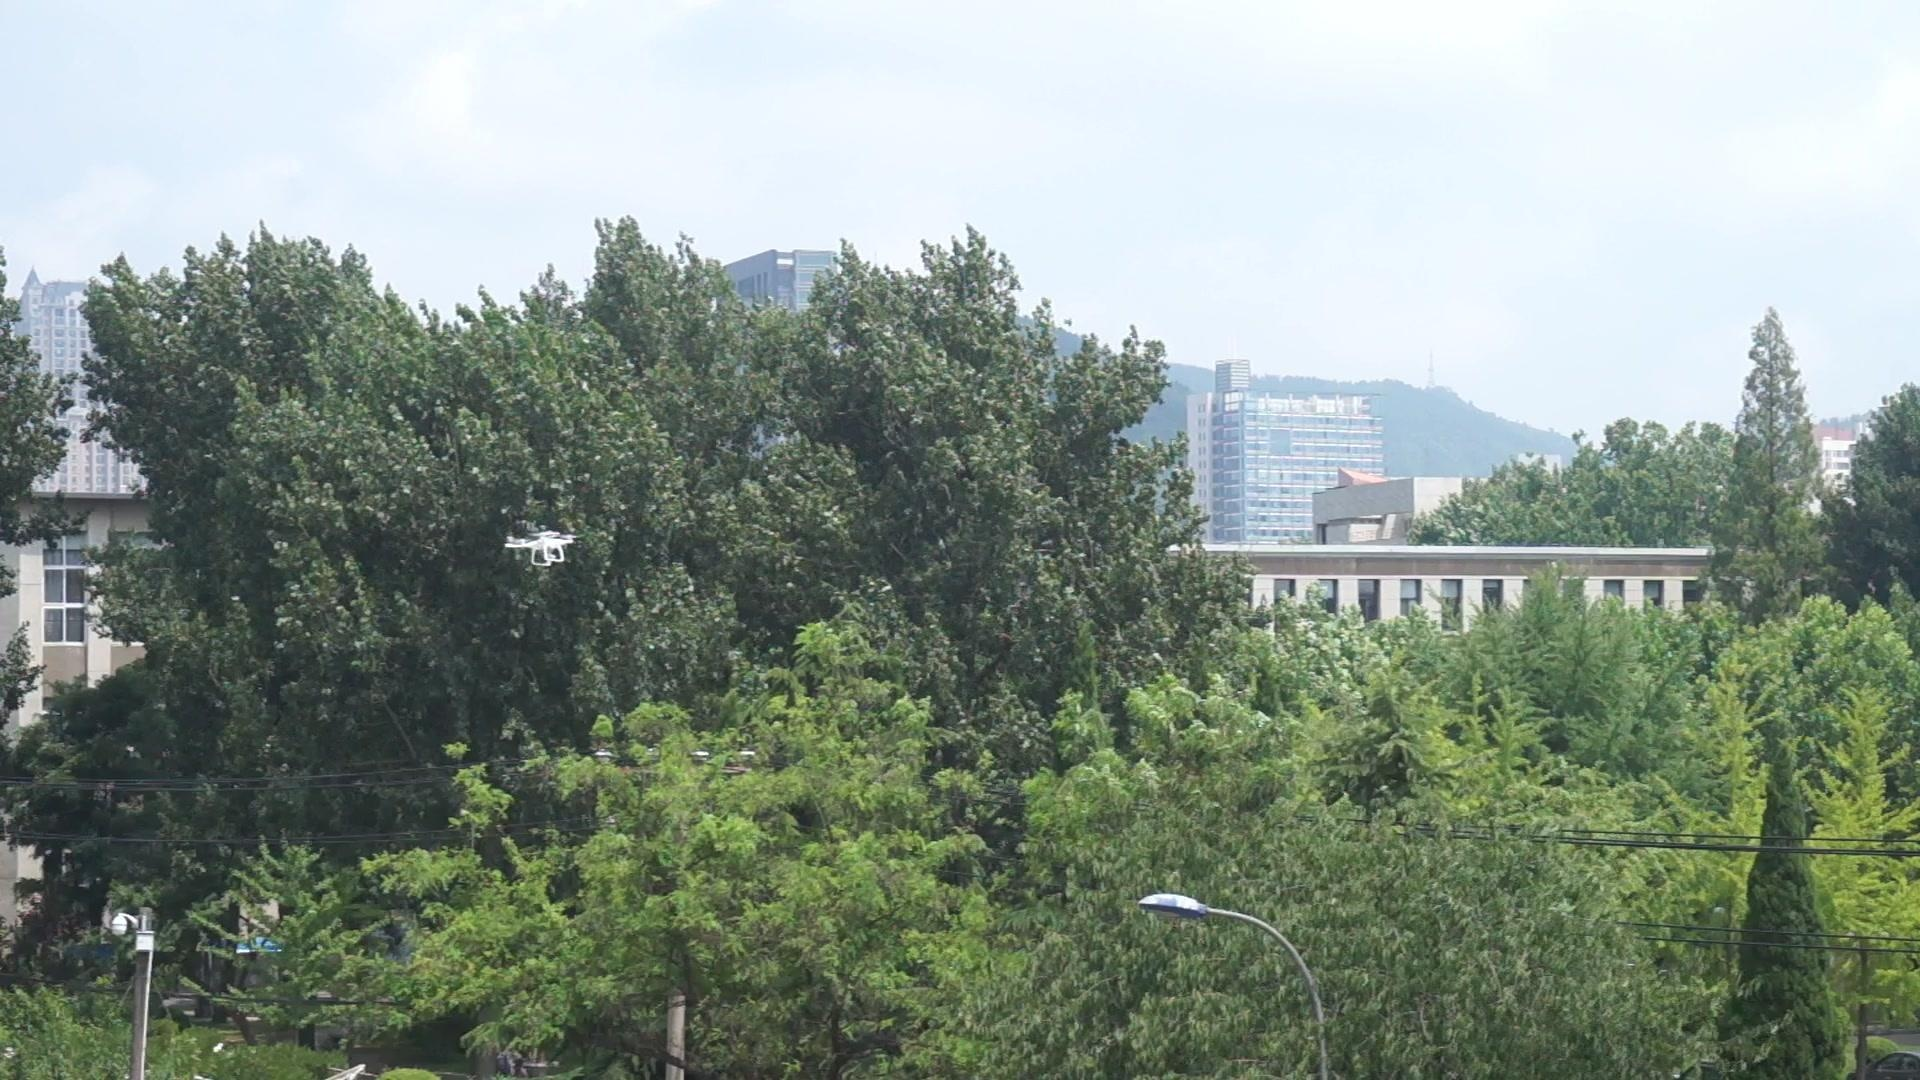UAV: (504, 531, 582, 568)
